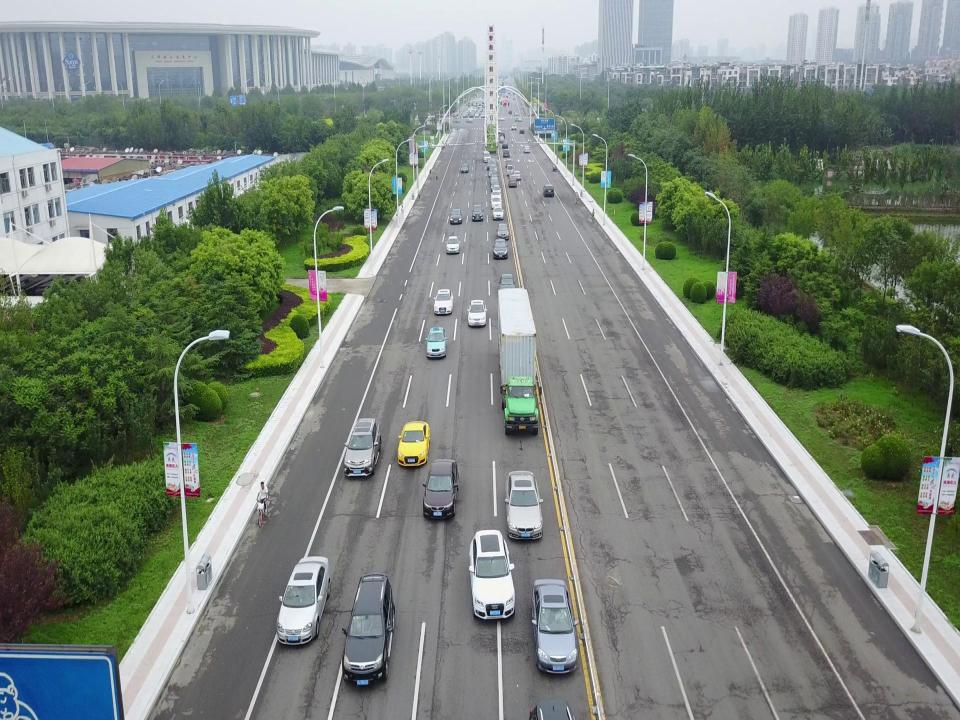car: (342, 572, 394, 685), (276, 556, 330, 645), (532, 579, 578, 674), (469, 529, 515, 620), (504, 470, 542, 540), (344, 417, 382, 476), (422, 459, 458, 517), (397, 421, 430, 467), (425, 327, 447, 358), (433, 288, 453, 314), (467, 300, 487, 326), (498, 274, 516, 295), (492, 239, 508, 259), (446, 236, 460, 253), (471, 202, 483, 221), (496, 223, 509, 240), (450, 209, 462, 223), (492, 206, 504, 220), (542, 184, 554, 197), (490, 197, 502, 210), (491, 190, 502, 202), (506, 176, 516, 188), (491, 185, 501, 196), (490, 180, 500, 191), (460, 163, 470, 173), (490, 177, 499, 186), (486, 160, 494, 170), (490, 172, 498, 182), (512, 171, 520, 180), (505, 158, 513, 167), (502, 149, 510, 158), (488, 169, 496, 177), (490, 165, 497, 174), (523, 146, 530, 154), (498, 136, 504, 144), (519, 127, 525, 134), (496, 128, 502, 135), (502, 142, 508, 149), (499, 131, 505, 138), (512, 125, 516, 130)
truck: (498, 288, 542, 437)
van: (506, 164, 514, 176), (483, 150, 491, 162)
